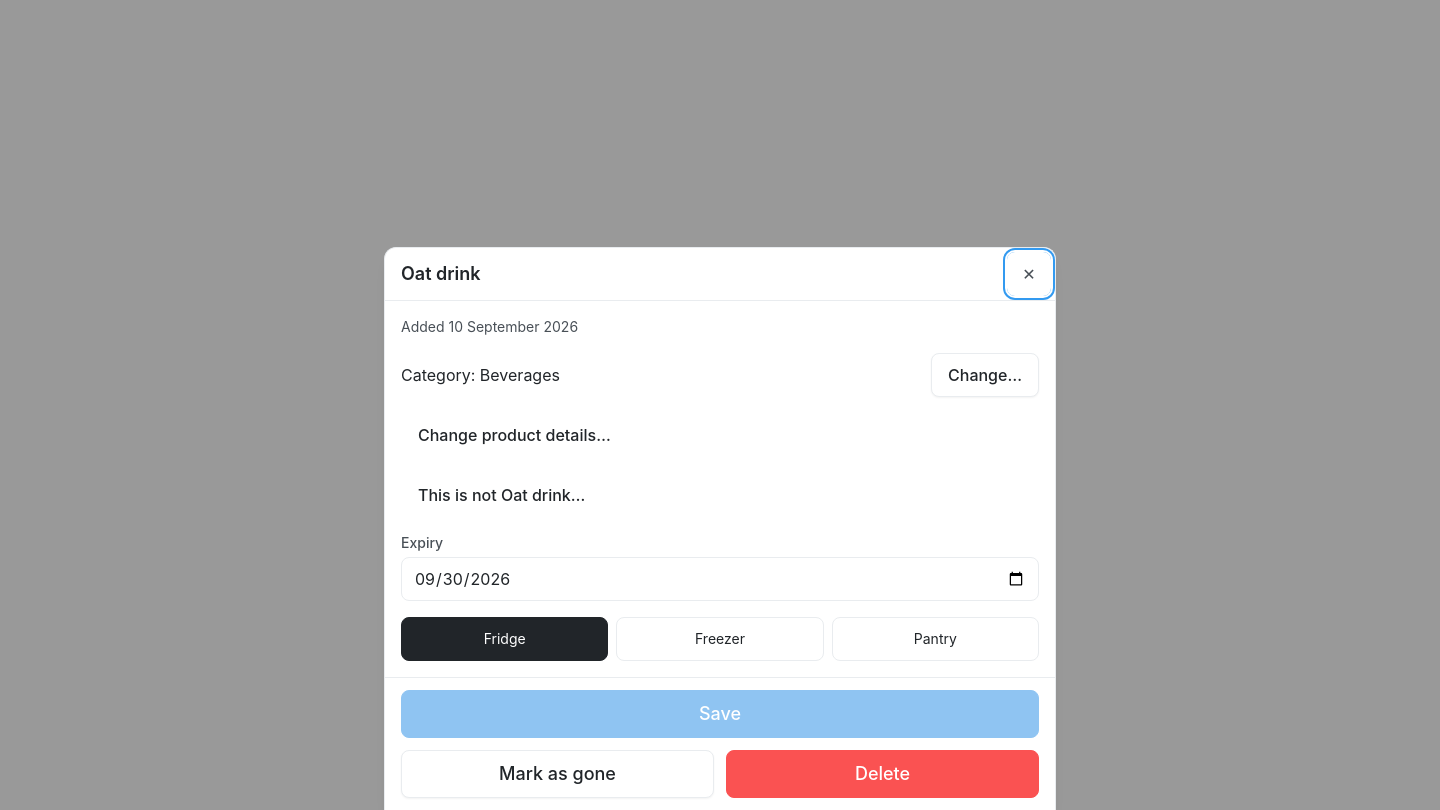
Test: ItemEditSheet › marks the item as gone
Step 1. Click the button "Mark as gone" → (558, 774), box [401,750,714,798]
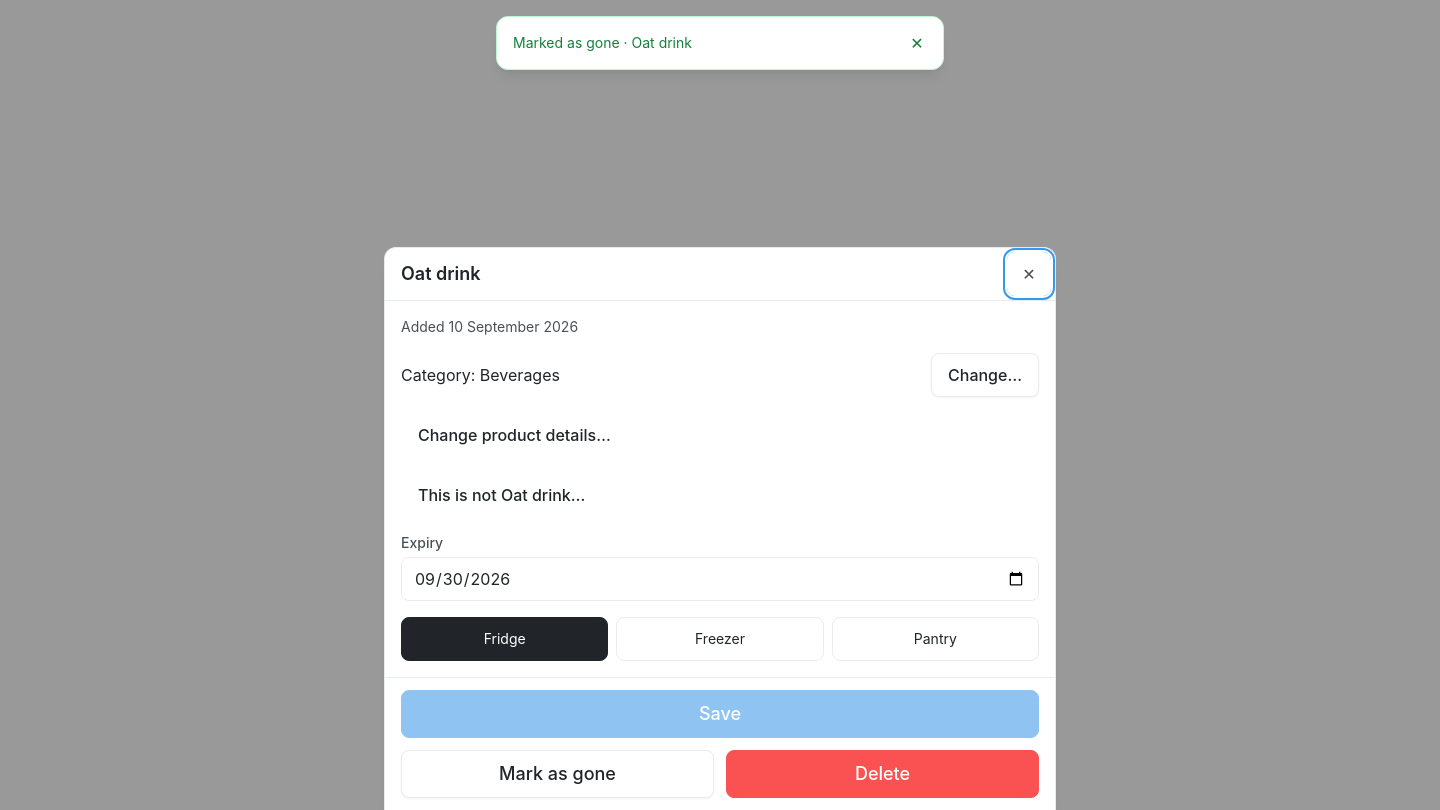
Expected: the text "Marked as gone · Oat drink" is shown, [513,34,692,51]
